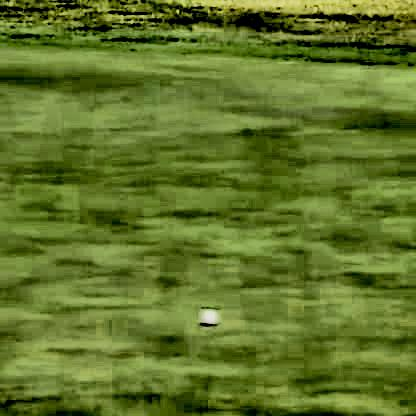golfball: (196, 310, 218, 326)
